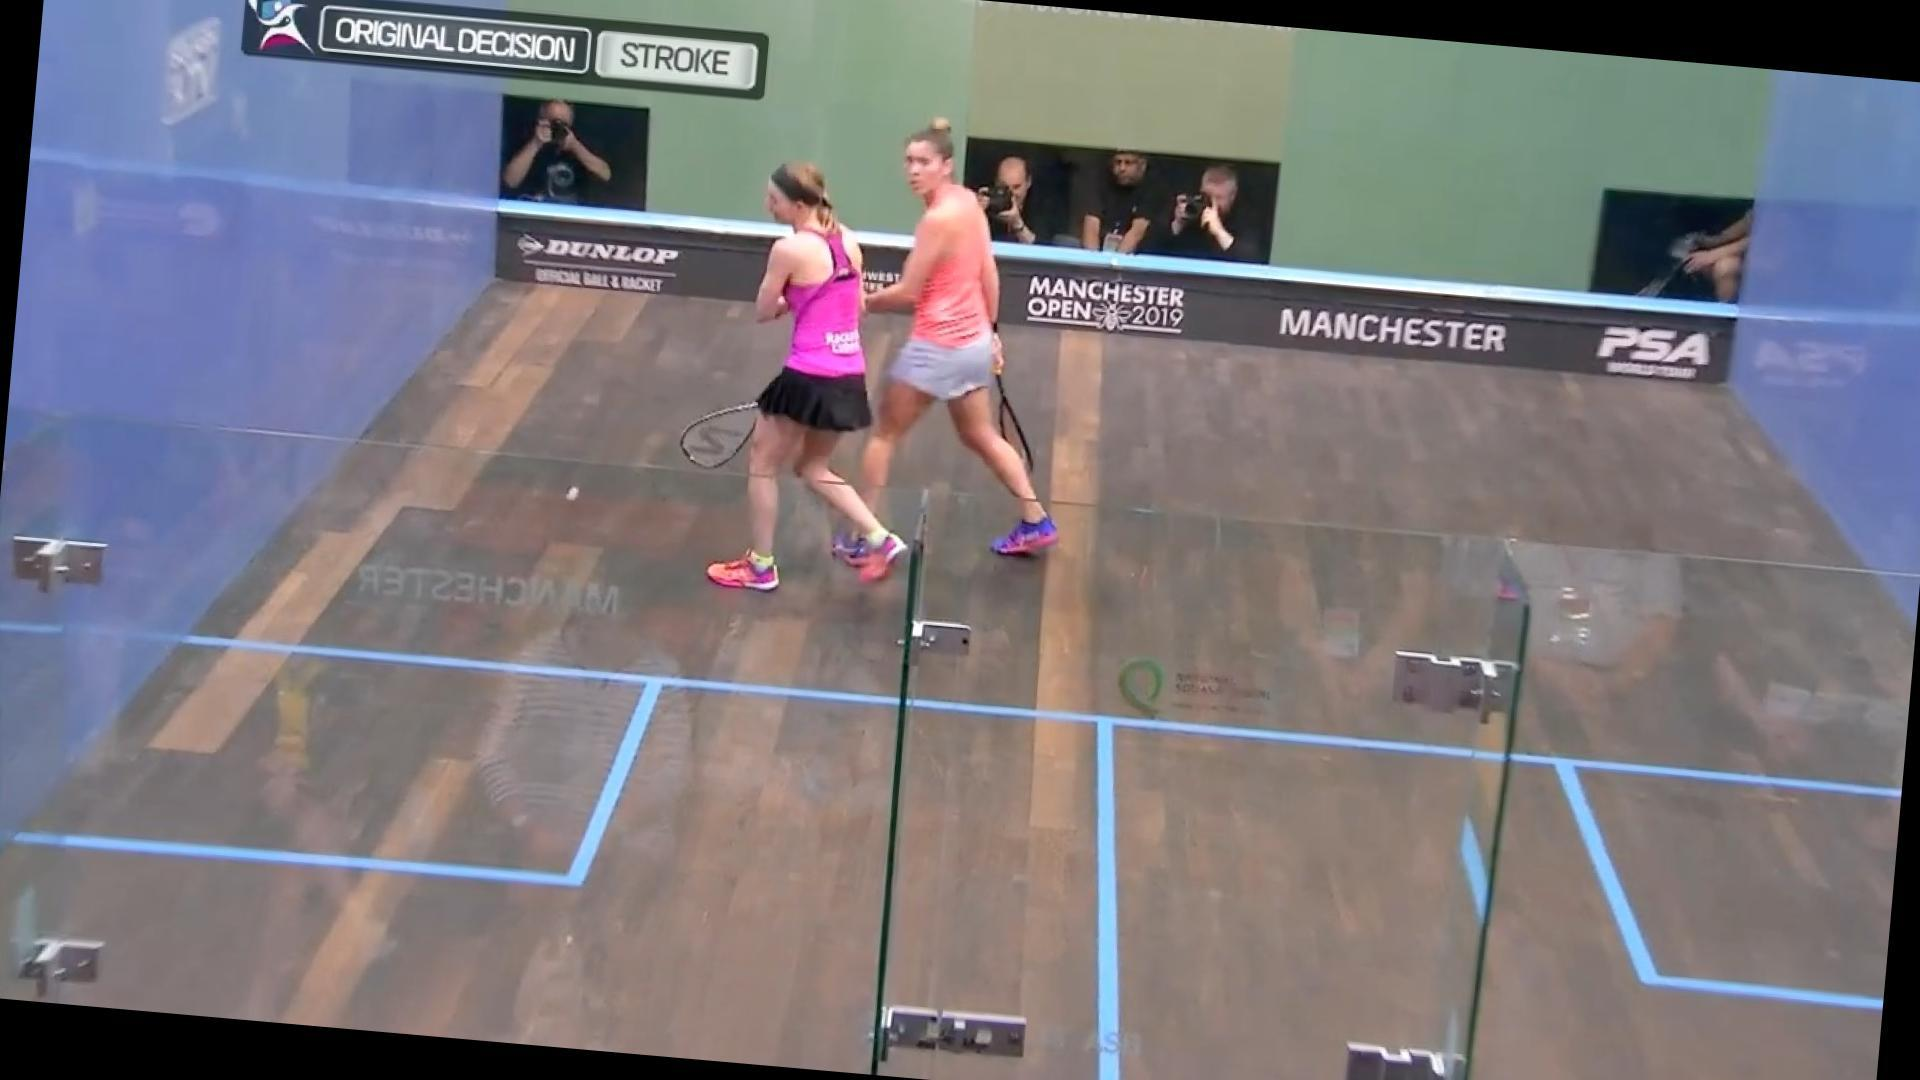Squash-Ball: (545, 454, 600, 530)
